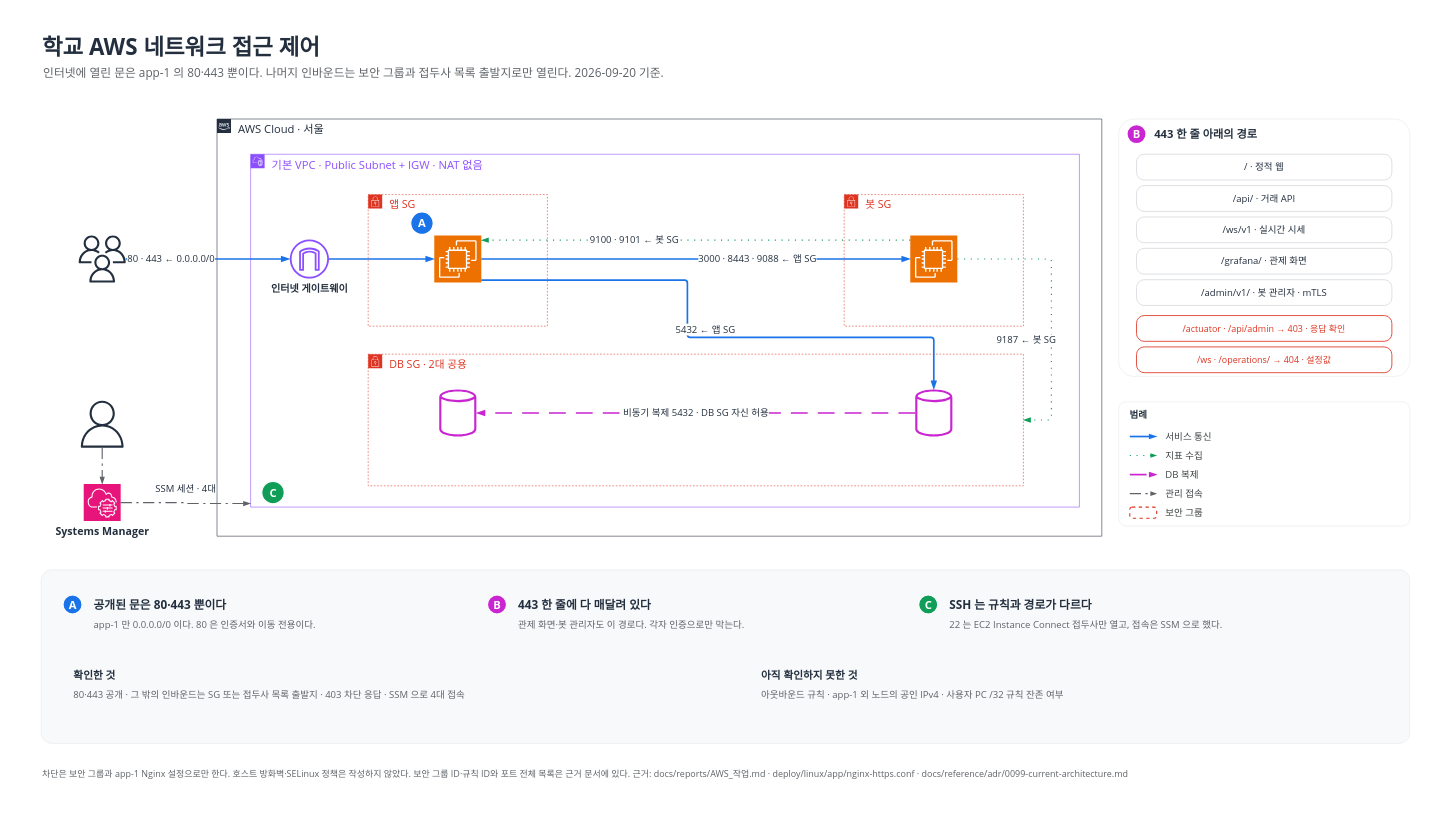
Image size: 1453x825. Some labels were removed from this diagram. Each missing label, with the centre of its shape:
"app-1 Nginx · TLS 종료" goes at pixel 457 259.
"bot-1 Grafana · 보고 · 봇" goes at pixel 933 259.
"DB Primary 쓰기 대상" goes at pixel 933 412.
"DB Standby 읽기 전용" goes at pixel 457 412.
"운영자" goes at pixel 101 423.
"인터넷 사용자 www.sang.it.kr" goes at pixel 101 258.
